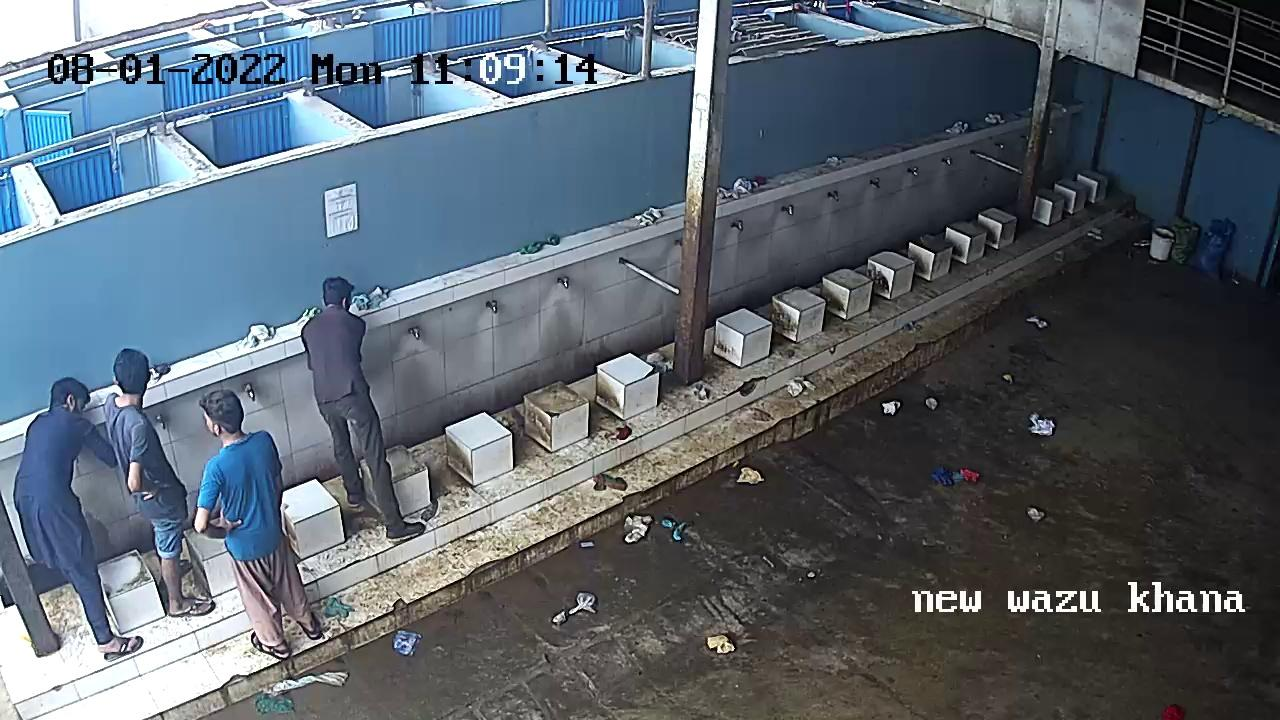person: (309, 275, 422, 530), (206, 400, 327, 635), (104, 352, 202, 635), (29, 388, 130, 640)
